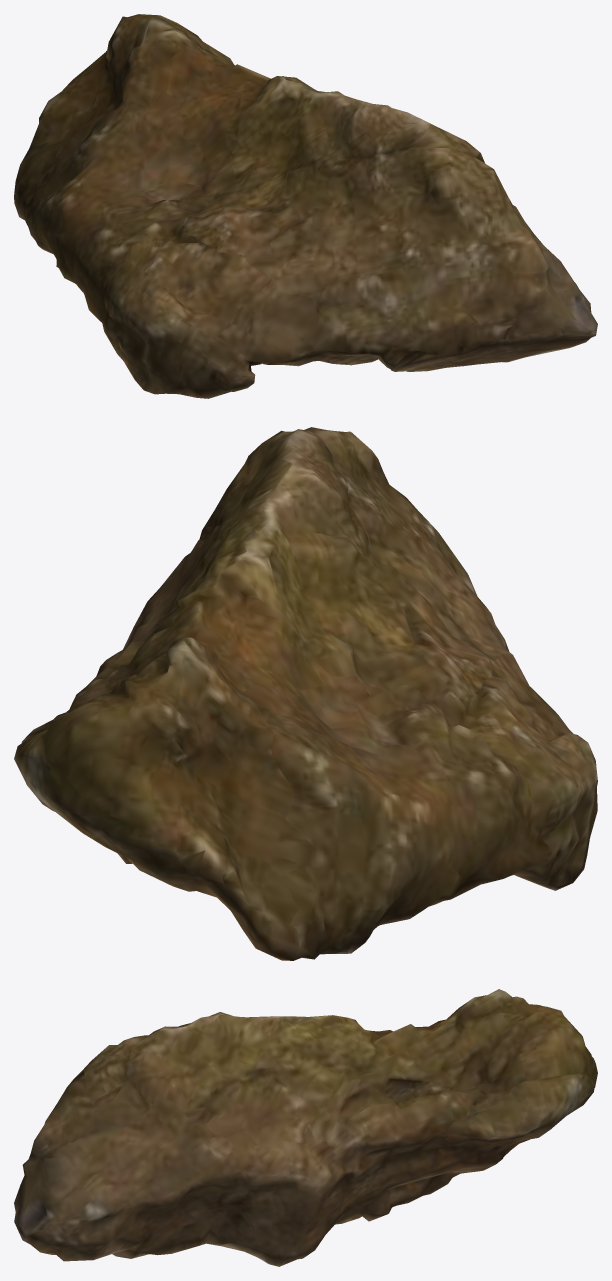
The model's file is boulder_1.glb.
The picture shows the model from 3 angles, top to bottom: view 1: azimuth 30°, elevation 25°; view 2: azimuth 150°, elevation 25°; view 3: azimuth 270°, elevation 25°; orthographic projection. The views are drawn at different scales.
Size of the model in its own units: 2.24 by 1.47 by 3.37.
1 material, 1 textured.
